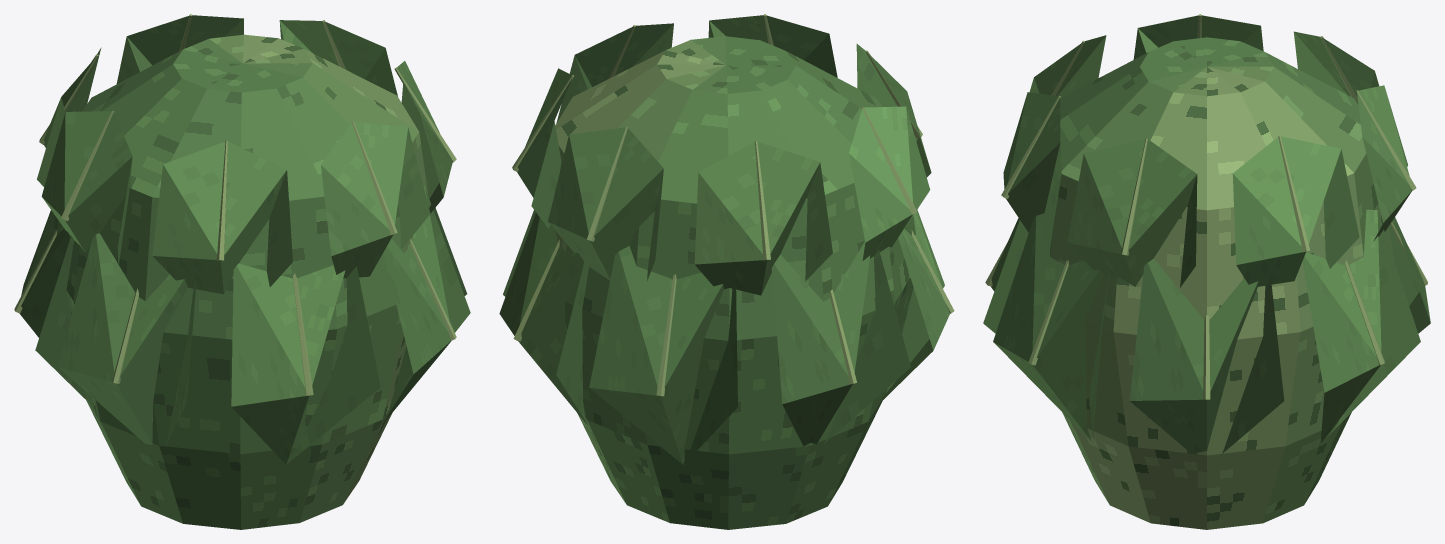
The model's file is cabbage_head.glb.
3 views of the same model, side by side, from view 1: azimuth 30°, elevation 25°; view 2: azimuth 150°, elevation 25°; view 3: azimuth 270°, elevation 25° (orthographic).
Visible parts, largest first — view 1: block_inner head, block_overlapping cabbage leaf (×19), block_curled cabbage margin (×16), block_leaf rib (×6); view 2: block_inner head, block_overlapping cabbage leaf (×18), block_curled cabbage margin (×18), block_leaf rib (×5); view 3: block_inner head, block_overlapping cabbage leaf (×17), block_curled cabbage margin (×20), block_leaf rib (×5).
Part boxes in pixels (box(x1,y1,x2,y2)): block_inner head: box(53, 34, 427, 529); block_overlapping cabbage leaf (×19): box(20, 36, 470, 464); block_curled cabbage margin (×16): box(64, 15, 449, 387); block_leaf rib (×6): box(61, 110, 456, 395); block_inner head: box(555, 36, 915, 529); block_overlapping cabbage leaf (×18): box(499, 34, 949, 464); block_curled cabbage margin (×18): box(520, 15, 918, 387); block_leaf rib (×5): box(587, 107, 917, 396); block_inner head: box(1050, 37, 1393, 529); block_overlapping cabbage leaf (×17): box(983, 32, 1430, 453); block_curled cabbage margin (×20): box(1008, 15, 1409, 391); block_leaf rib (×5): box(1028, 135, 1384, 399).
Bounding box in the file's own units: 0.1956 × 0.1978 × 0.1939.
2 materials, 2 textured.
